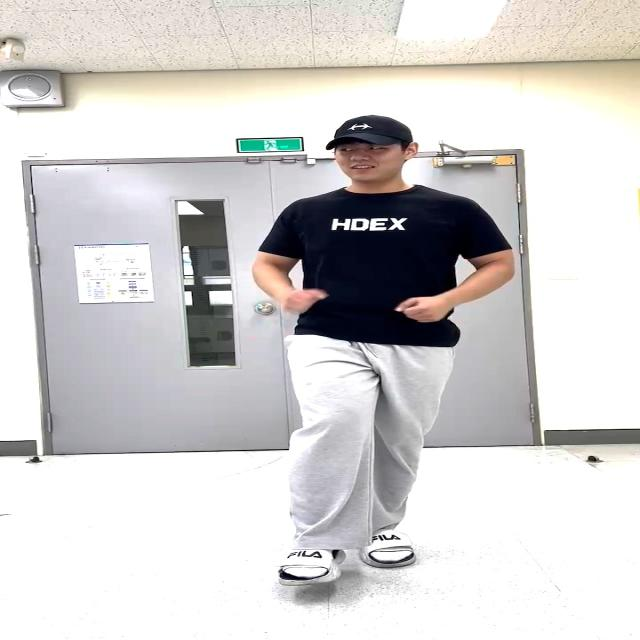leg: (276, 337, 358, 583)
